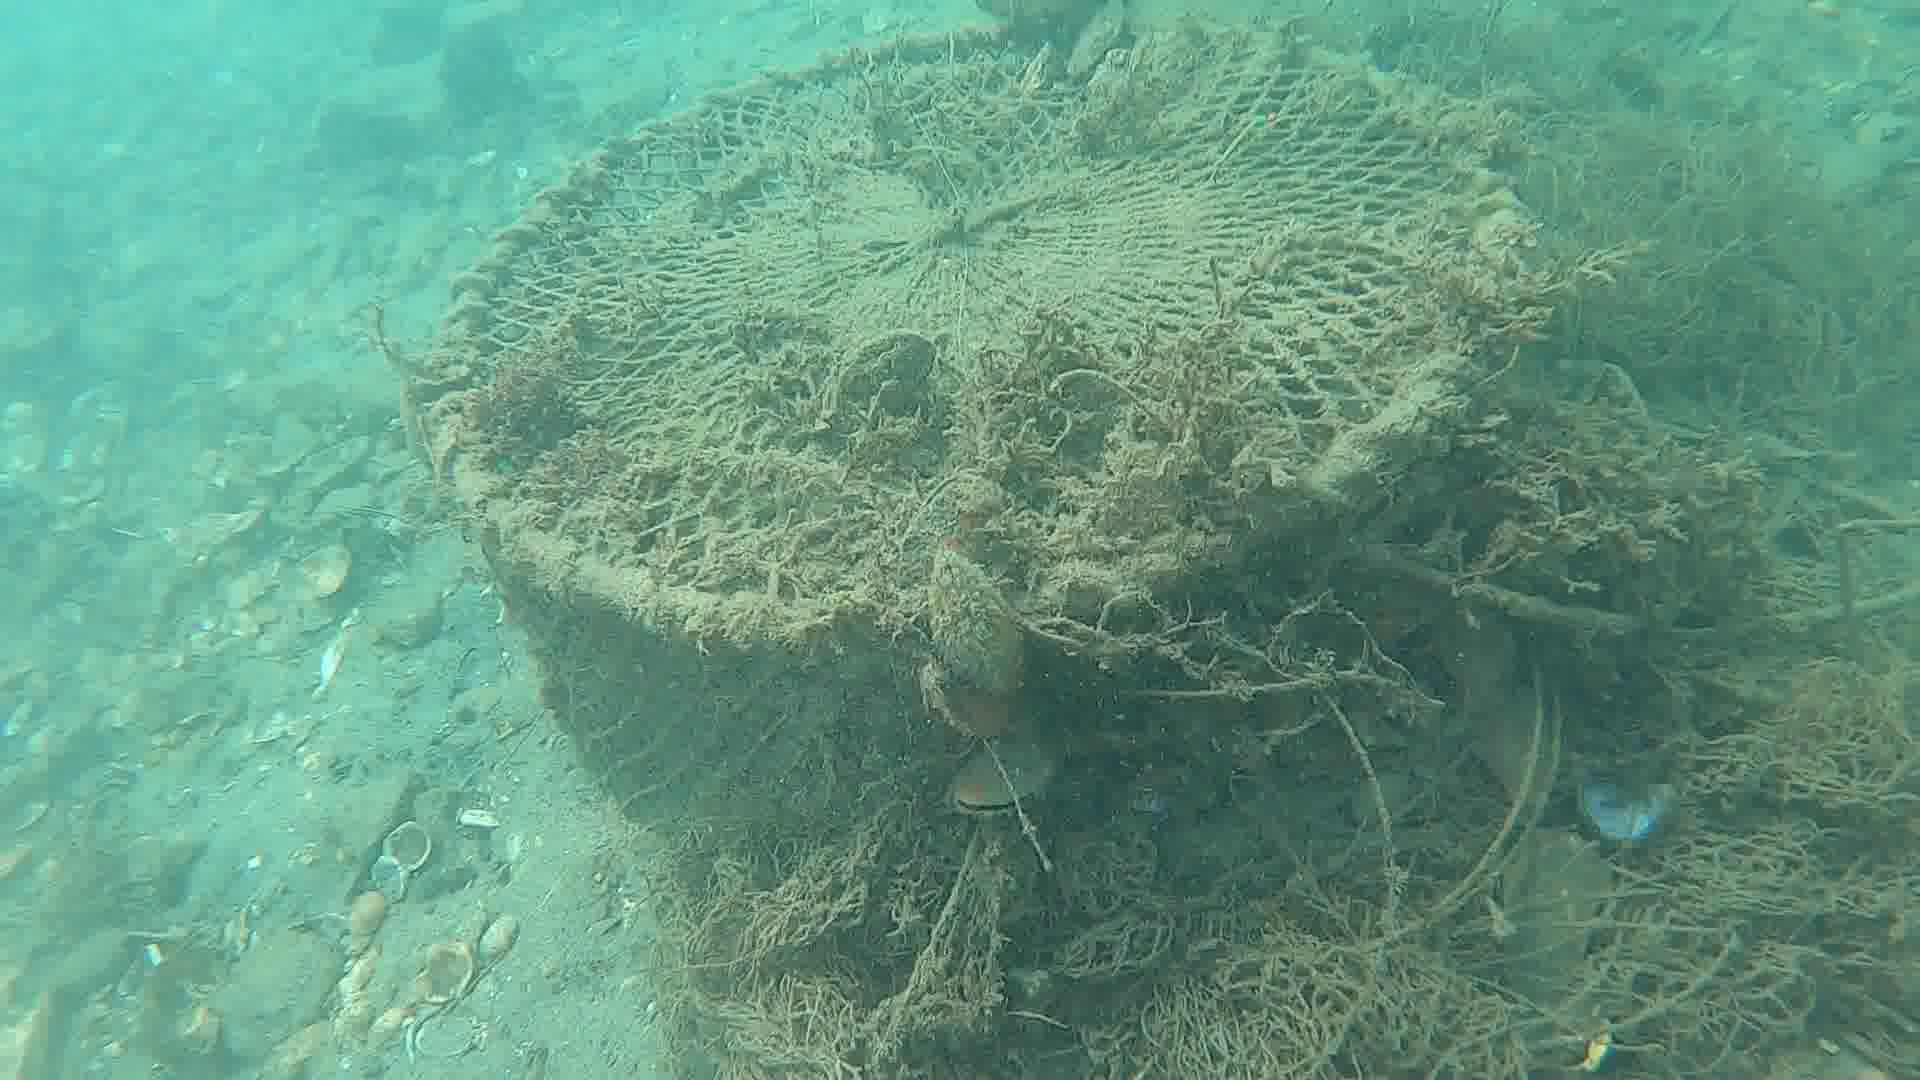circular fish trap: (429, 29, 1534, 866)
